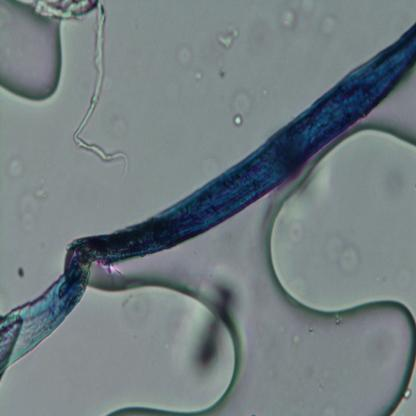Air bubble: (265, 128, 416, 330), (88, 274, 248, 416), (0, 0, 64, 106), (378, 329, 416, 414)
Background material: (186, 277, 242, 380), (14, 187, 48, 235), (326, 236, 362, 272), (230, 87, 255, 115), (218, 27, 240, 48), (176, 43, 193, 70), (7, 156, 25, 180), (281, 8, 297, 31), (16, 265, 26, 280), (233, 114, 243, 127), (194, 70, 203, 82)
Cellulose filter fibre: (35, 0, 131, 174)
Cotton: (0, 23, 416, 377)
